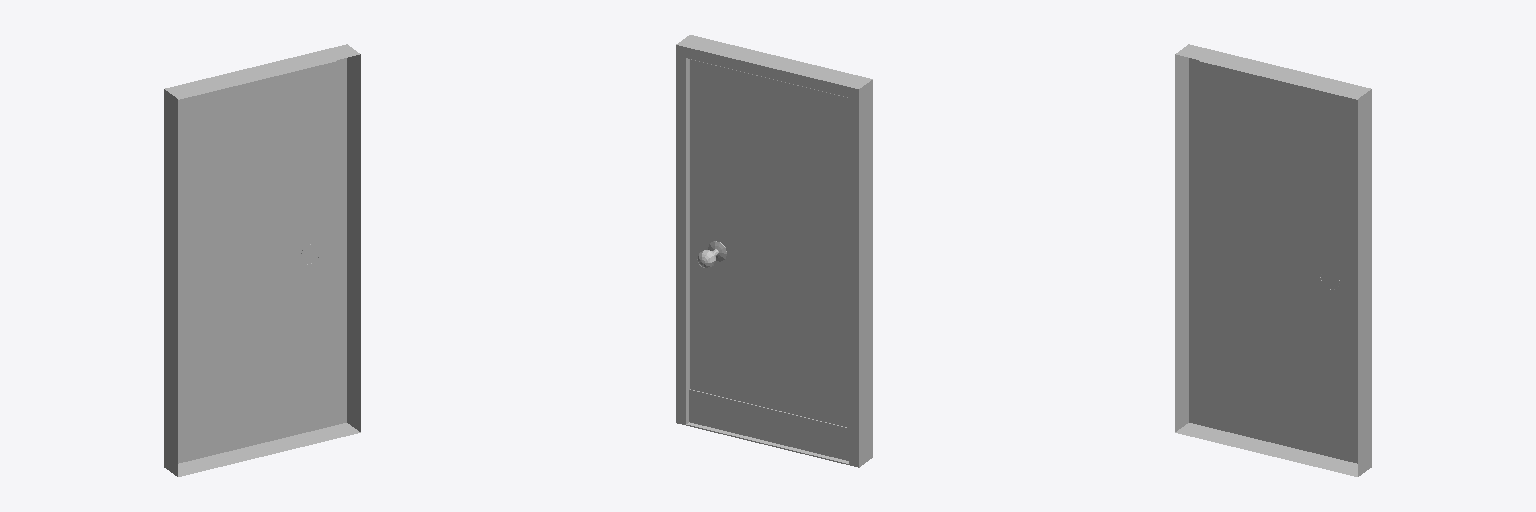
Rendered from migueldoor.obj.
The picture shows the model from 3 angles: view 1: azimuth 30°, elevation 25°; view 2: azimuth 150°, elevation 25°; view 3: azimuth 330°, elevation 25°; orthographic projection.
Parts seen in each view (by area): view 1: doorCrystal; view 2: doorCrystal; view 3: doorCrystal.
Part boxes in pixels (bbox=[...]): doorCrystal: bbox=[164, 44, 360, 476]; doorCrystal: bbox=[676, 35, 872, 467]; doorCrystal: bbox=[1175, 44, 1371, 476].
Bounding box in the file's own units: 1.17 × 2.31 × 0.2977.